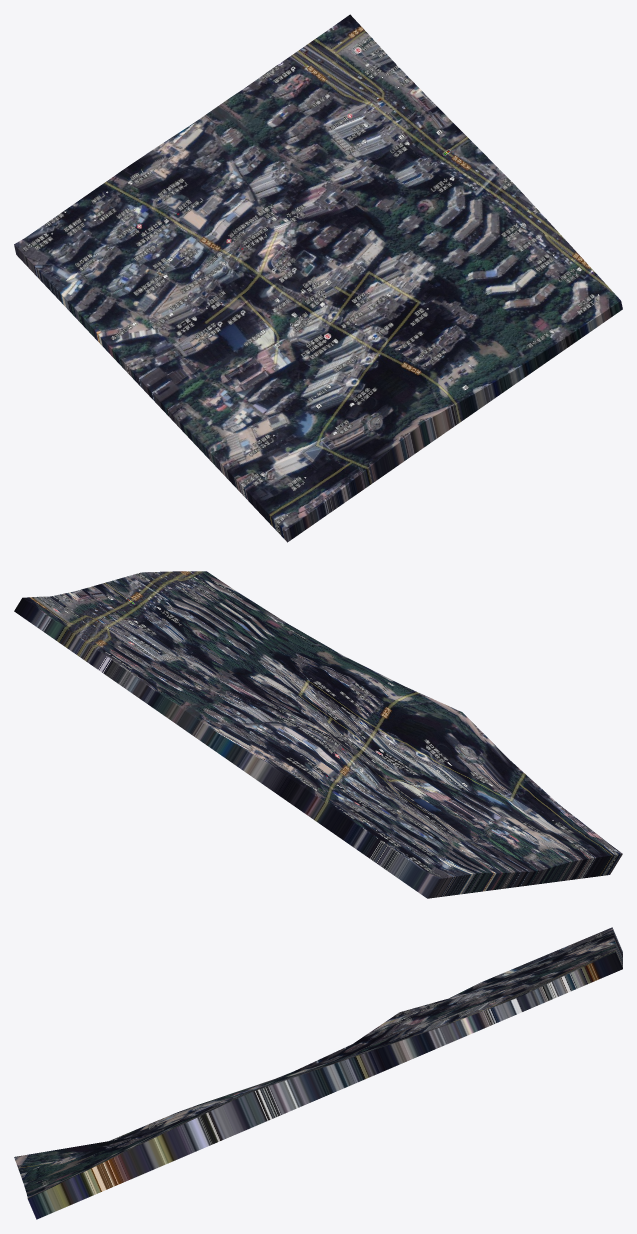
3 renders of one model, top to bottom at view 1: azimuth 30°, elevation 25°; view 2: azimuth 150°, elevation 25°; view 3: azimuth 270°, elevation 25°, orthographic. The views are drawn at different scales.
Visible parts, largest first — view 1: 0_7_24; view 2: 0_7_24; view 3: 0_7_24.
Part boxes in pixels (x1=…): 0_7_24: x1=14, y1=14, x2=622, y2=542; 0_7_24: x1=14, y1=571, x2=622, y2=898; 0_7_24: x1=14, y1=927, x2=622, y2=1219.
Bounding box in the file's own units: 601 × 443 × 563.
Materials: 1 (1 with a texture image).
